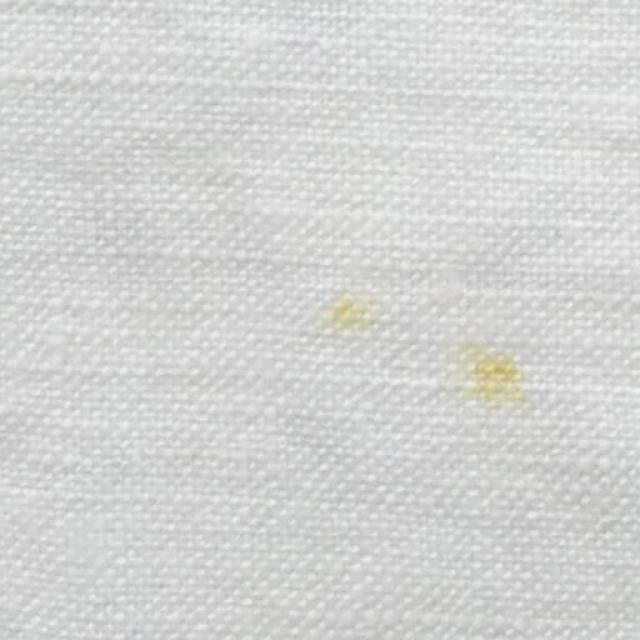Stain: (454, 344, 530, 408), (326, 295, 379, 331)
